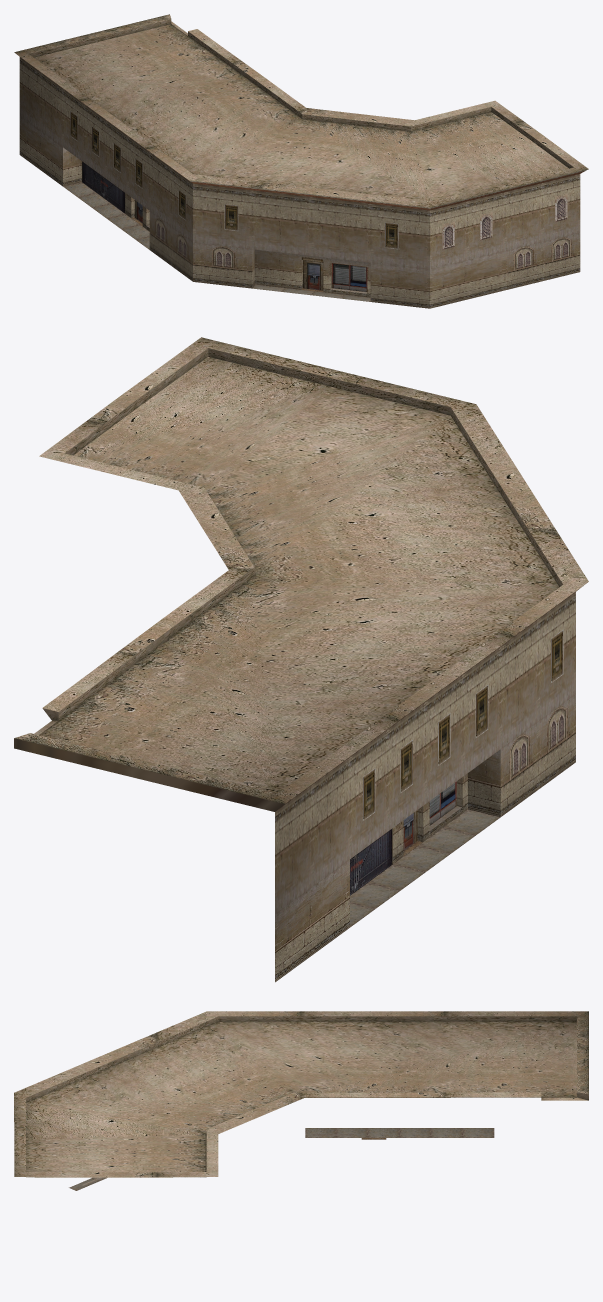
File: M11Z1_Building05_A.glb
3 views of the same model, one above another, from view 1: azimuth 30°, elevation 25°; view 2: azimuth 150°, elevation 25°; view 3: azimuth 270°, elevation 25° (orthographic). The views are drawn at different scales.
Parts seen in each view (by area): view 1: M11Z1_BUILDING05_A; view 2: M11Z1_BUILDING05_A; view 3: M11Z1_BUILDING05_A.
Part boxes in pixels (x1,y1,x2,y2): M11Z1_BUILDING05_A: (14, 14, 588, 308); M11Z1_BUILDING05_A: (14, 337, 588, 982); M11Z1_BUILDING05_A: (14, 1011, 588, 1190).
Size of the model in its own units: 33.23 by 10.6 by 48.64.
9 materials, 9 textured.
